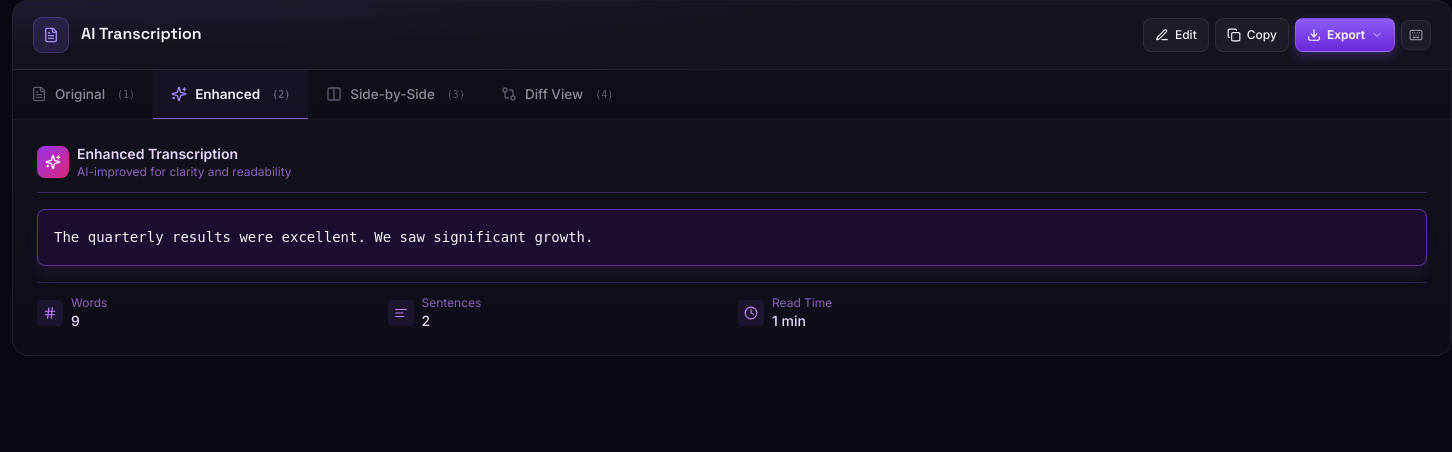
Scenario: TabbedTranscriptionView › Side-by-Side Tab › displays both texts in columns
What coordinates should you click on to do the following:
click the tab "Side-by-Side (3)"
I would click on:
 (396, 95)
Its box is [308,70,483,120].
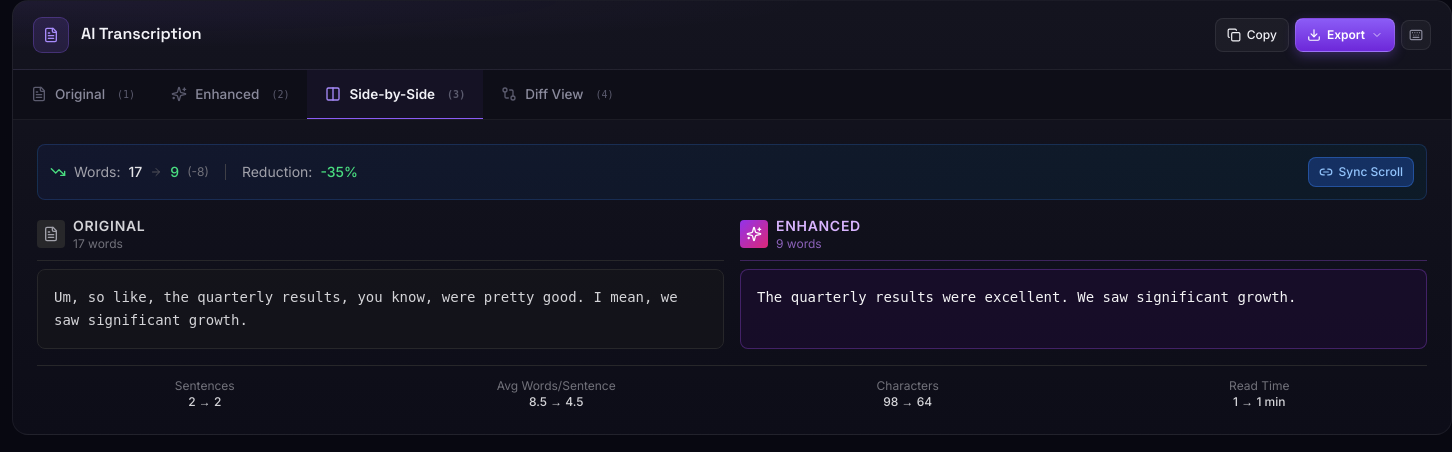
Expected: the text "quarterly results were excellent" is shown, [757,289,1296,305]
Expected: the text "Um, so like" is shown, [54,289,686,328]
